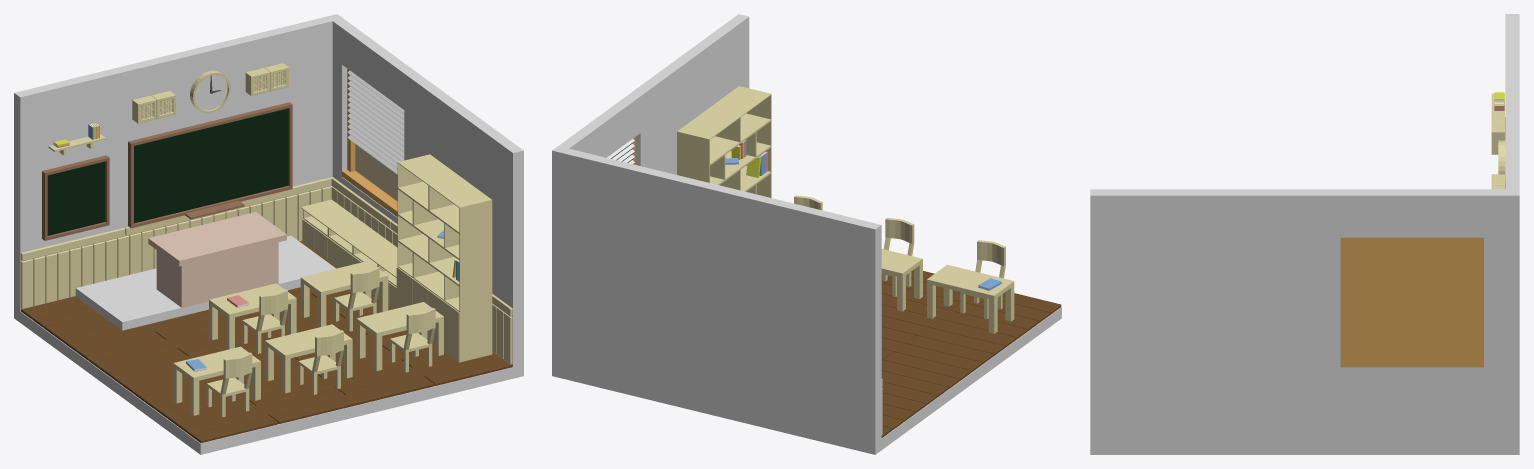
The model's file is Classroom 1.fbx.
3 views of the same model, side by side, from view 1: azimuth 30°, elevation 25°; view 2: azimuth 150°, elevation 25°; view 3: azimuth 270°, elevation 25° (orthographic). The views are drawn at different scales.
Visible parts, largest first — view 1: Wall, Floor, 书架, 立方体.001, Wall.001, 讲台, 立方体.003, 黑板2, 柜子, 立方体.006, Table.005, Table.002 (+14 smaller); view 2: Wall, Floor, 书架, Table.003, Table.004, Chair.003, Chair.004; view 3: Wall, 窗户.
Part boxes in pixels (box(x1,y1,x2,y2)): Wall: box(14, 14, 523, 454); Floor: box(21, 241, 512, 442); 书架: box(396, 154, 492, 362); 立方体.001: box(128, 102, 292, 228); Wall.001: box(20, 177, 512, 364); 讲台: box(148, 212, 286, 307); 立方体.003: box(75, 235, 335, 330); 黑板2: box(42, 155, 109, 240); 柜子: box(300, 199, 397, 308); 立方体.006: box(347, 70, 404, 174); Table.005: box(356, 302, 443, 370); Table.002: box(300, 261, 388, 327); Wall: box(552, 14, 1061, 454); Floor: box(881, 270, 1061, 437); 书架: box(677, 86, 771, 197); Table.003: box(927, 264, 1014, 333); Table.004: box(881, 249, 922, 311); Chair.003: box(960, 240, 1005, 319); Chair.004: box(881, 217, 914, 296); Wall: box(1090, 14, 1519, 454); 窗户: box(1340, 237, 1483, 367).
Size of the model in its own units: 600 by 600 by 400.
